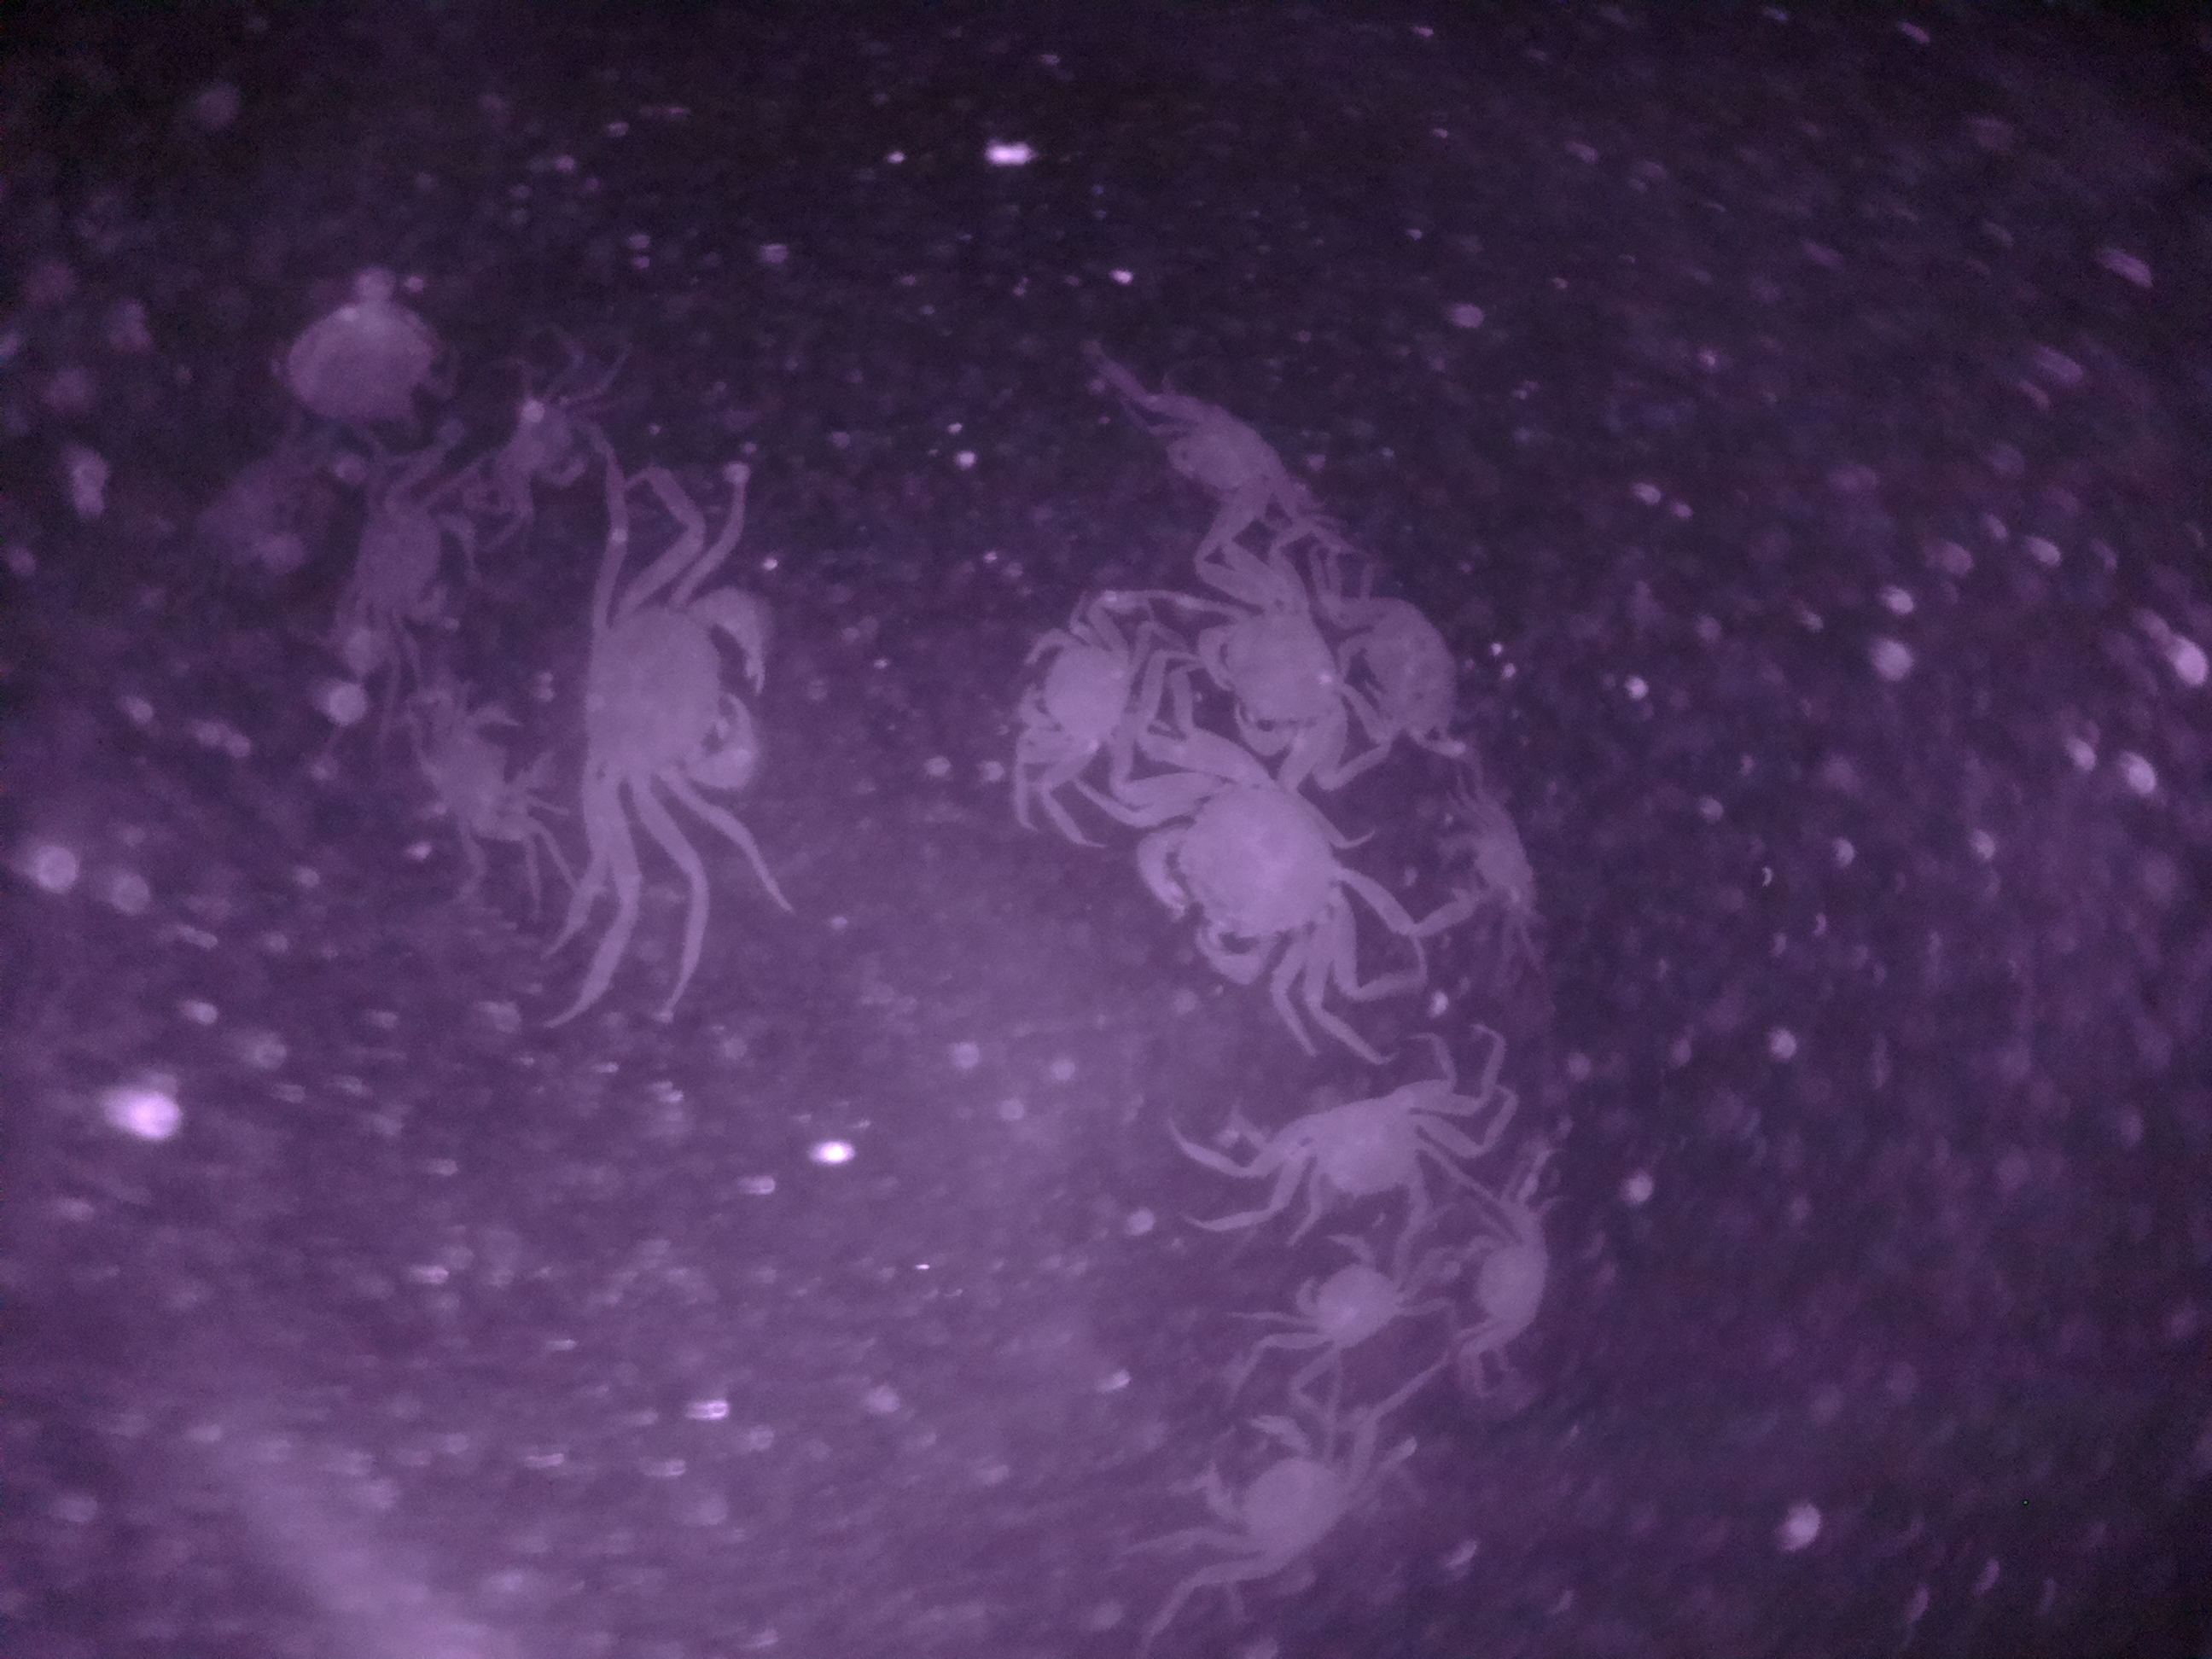Crab: (566, 552, 784, 861), (1120, 742, 1374, 993), (1184, 1399, 1397, 1601), (1170, 563, 1352, 762), (1254, 1073, 1461, 1234), (1010, 594, 1143, 819), (1247, 1244, 1446, 1364)
